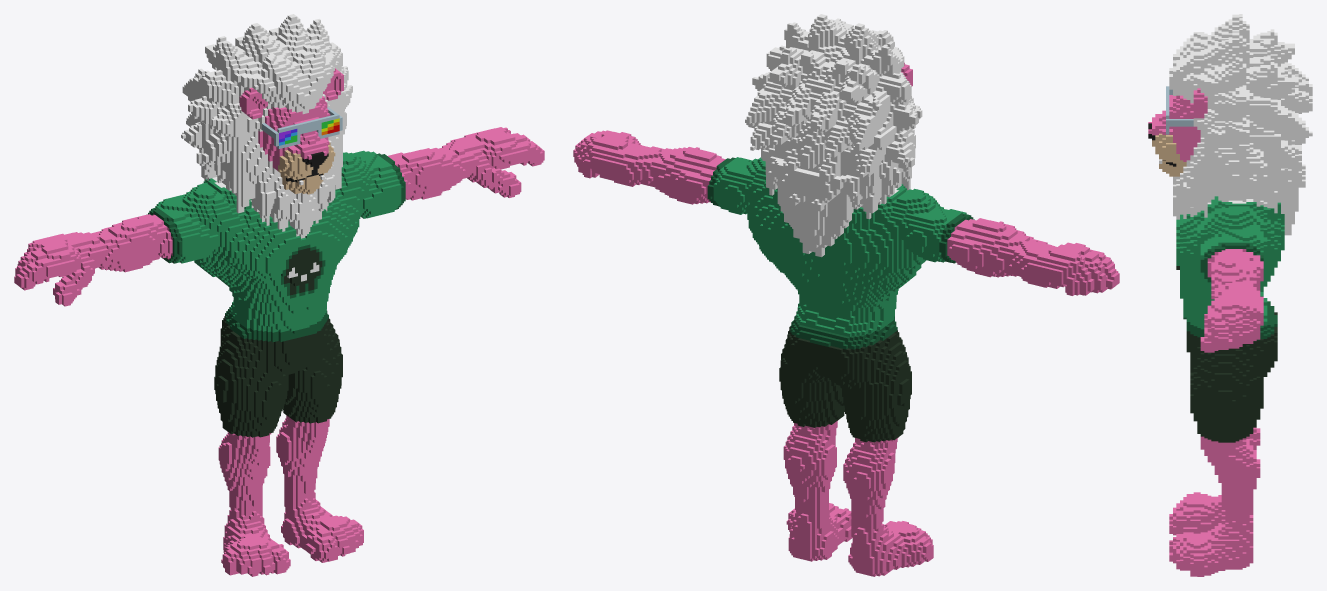
The model's file is 118-omwCEKpy.glb.
The picture shows the model from 3 angles, left to right: view 1: azimuth 30°, elevation 25°; view 2: azimuth 150°, elevation 25°; view 3: azimuth 270°, elevation 25°; orthographic projection. The views are drawn at different scales.
Visible parts, largest first — view 1: standard; view 2: standard; view 3: standard.
Boxes of the visible parts, box(x1,y1,x2,y2) form: standard: box(14, 14, 544, 576); standard: box(573, 14, 1119, 576); standard: box(1148, 14, 1312, 576).
Size of the model in its own units: 17.2 by 16.5 by 4.7.
5 materials, 5 textured.
